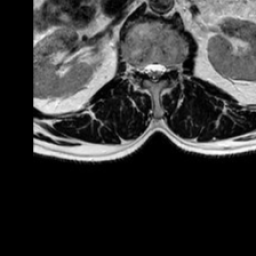CCS_normal: (151, 55, 158, 88)
LFS_normal: (166, 54, 175, 78)
LLS_normal: (158, 55, 166, 82)
RFS_normal: (136, 54, 144, 81)
RLS_normal: (144, 55, 151, 82)
